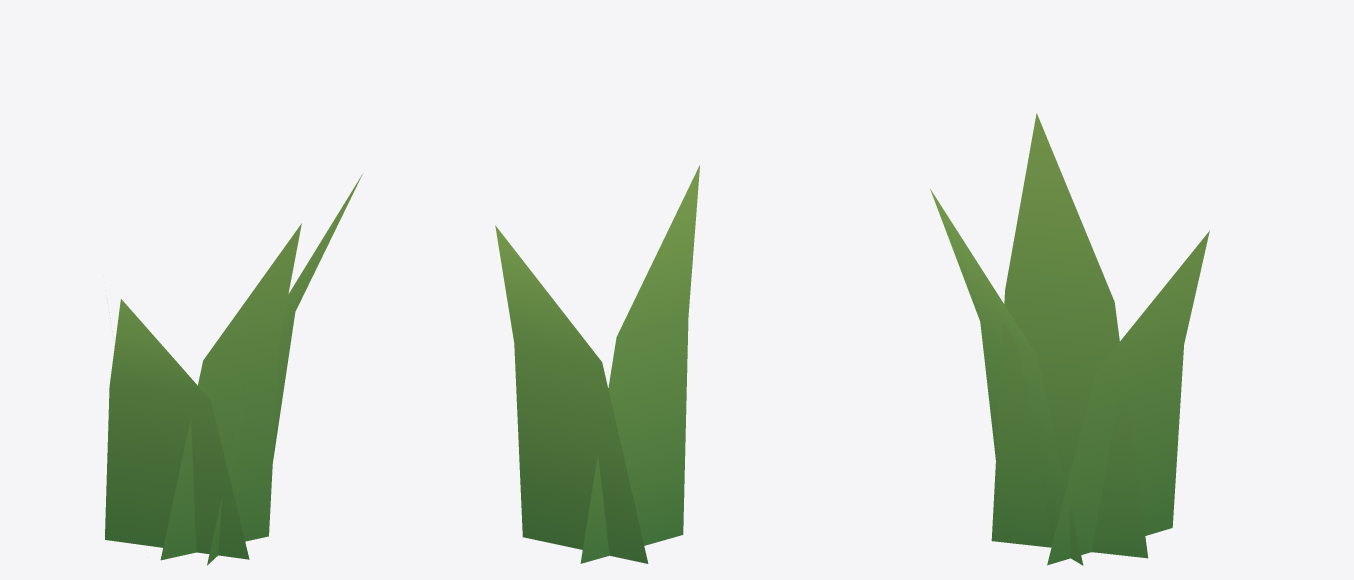
The model's file is grass_2.glb.
3 renders of one model, left to right at view 1: azimuth 30°, elevation 25°; view 2: azimuth 150°, elevation 25°; view 3: azimuth 270°, elevation 25°, orthographic. The views are drawn at different scales.
Parts seen in each view (by area): view 1: grass_2; view 2: grass_2; view 3: grass_2.
Boxes of the visible parts, <box> form: grass_2: <box>105,174,362,565</box>; grass_2: <box>495,165,699,563</box>; grass_2: <box>930,113,1209,565</box>.
Bounding box in the file's own units: 0.292 × 0.4507 × 0.4087.
